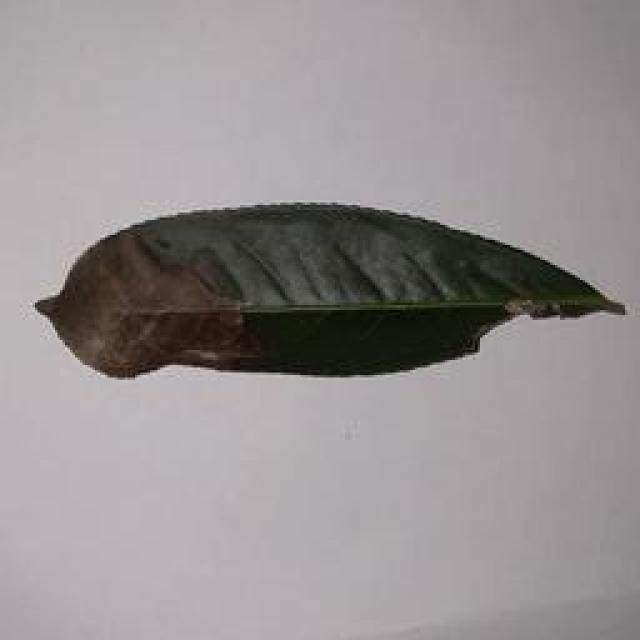Brown Blight: (22, 200, 626, 392)
